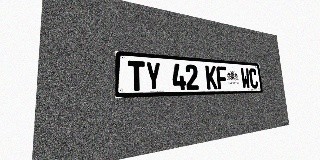2: (185, 64, 199, 90)
4: (172, 63, 186, 90)
C: (249, 68, 258, 89)
F: (216, 66, 228, 89)
K: (205, 65, 218, 89)
T: (128, 60, 145, 91)
W: (240, 68, 251, 89)
Y: (145, 61, 161, 91)
